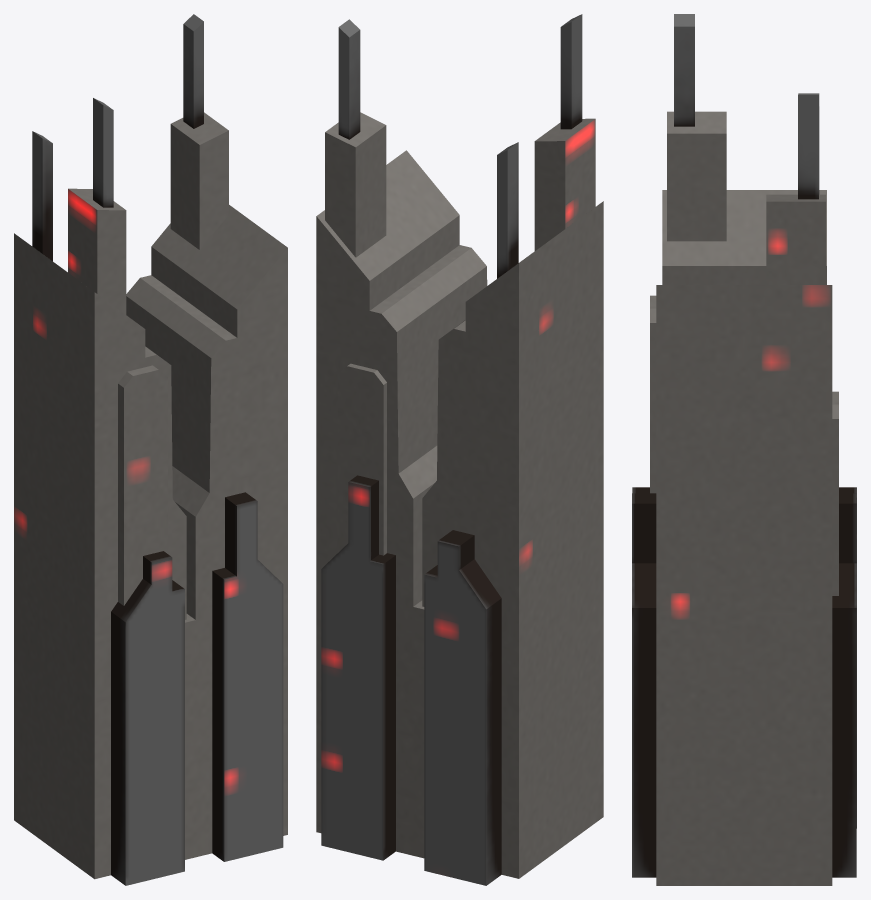
Rendered from SM_BackgroundBuilding_001.fbx.
3 views of the same model, side by side, from view 1: azimuth 30°, elevation 25°; view 2: azimuth 150°, elevation 25°; view 3: azimuth 270°, elevation 25° (orthographic). The views are drawn at different scales.
Parts seen in each view (by area): view 1: SM_BackgroundBuilding_001; view 2: SM_BackgroundBuilding_001; view 3: SM_BackgroundBuilding_001.
Part boxes in pixels (x1,y1,x2,y2): SM_BackgroundBuilding_001: (14,14,287,885); SM_BackgroundBuilding_001: (316,14,603,885); SM_BackgroundBuilding_001: (632,14,856,885).
Bounding box in the file's own units: 1095 × 1094 × 4209.
Materials: 1 (1 with a texture image).
